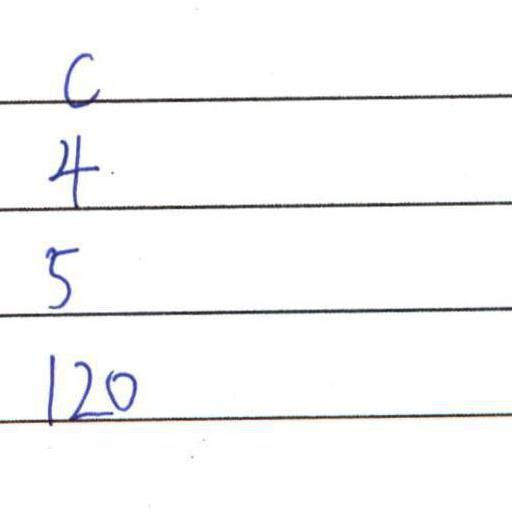ans: (35, 345, 138, 425), (42, 127, 99, 207), (35, 235, 79, 310), (55, 45, 103, 110)
